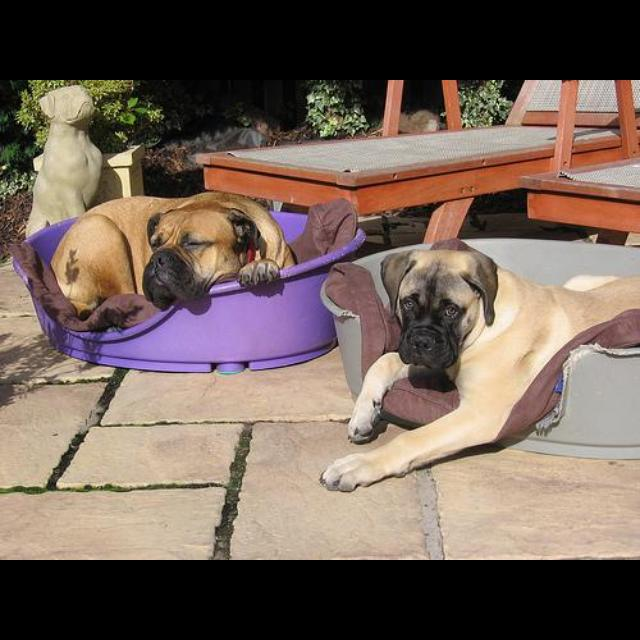bullmastiff: (320, 237, 640, 493), (50, 191, 298, 319)
